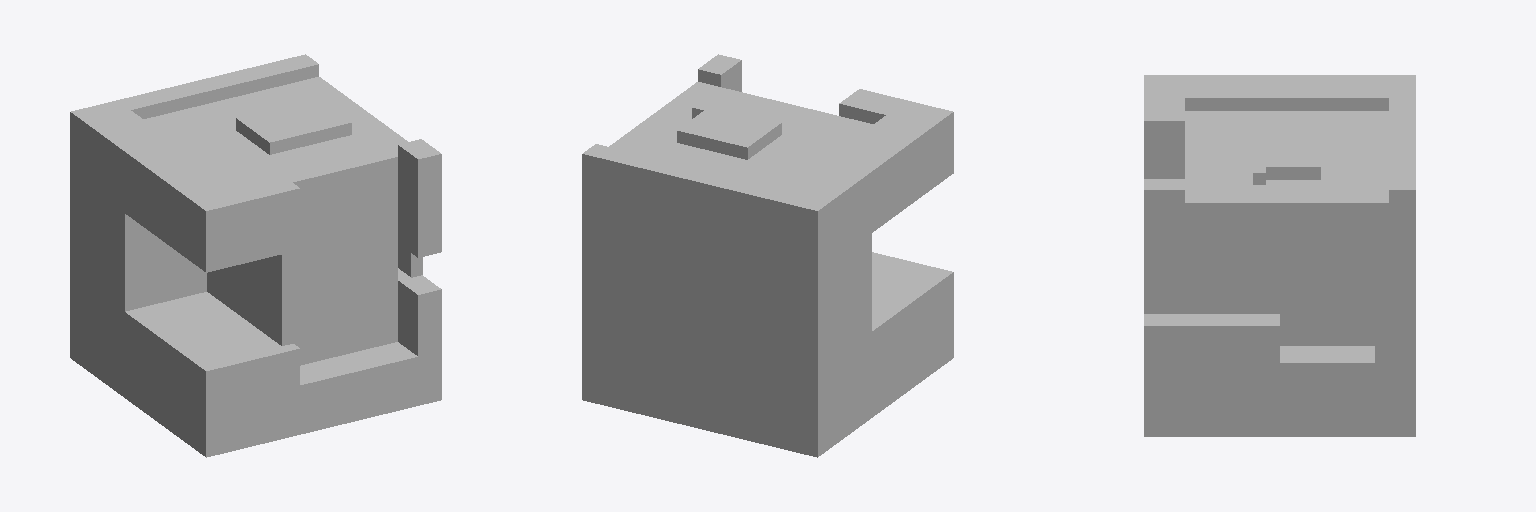
File: boulder.obj
The picture shows the model from 3 angles: view 1: azimuth 30°, elevation 25°; view 2: azimuth 150°, elevation 25°; view 3: azimuth 270°, elevation 25°; orthographic projection.
Parts seen in each view (by area): view 1: object 1; view 2: object 1; view 3: object 1.
Boxes of the visible parts, x1=… form: object 1: x1=70, y1=54, x2=441, y2=457; object 1: x1=582, y1=54, x2=953, y2=457; object 1: x1=1144, y1=75, x2=1415, y2=436.
Size of the model in its own units: 2 by 2 by 2.